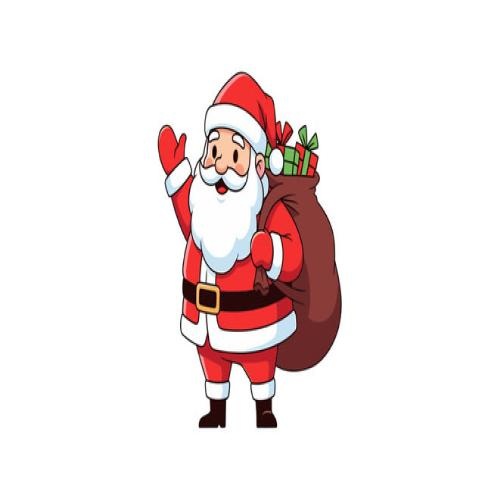Santa: (154, 53, 304, 435)
